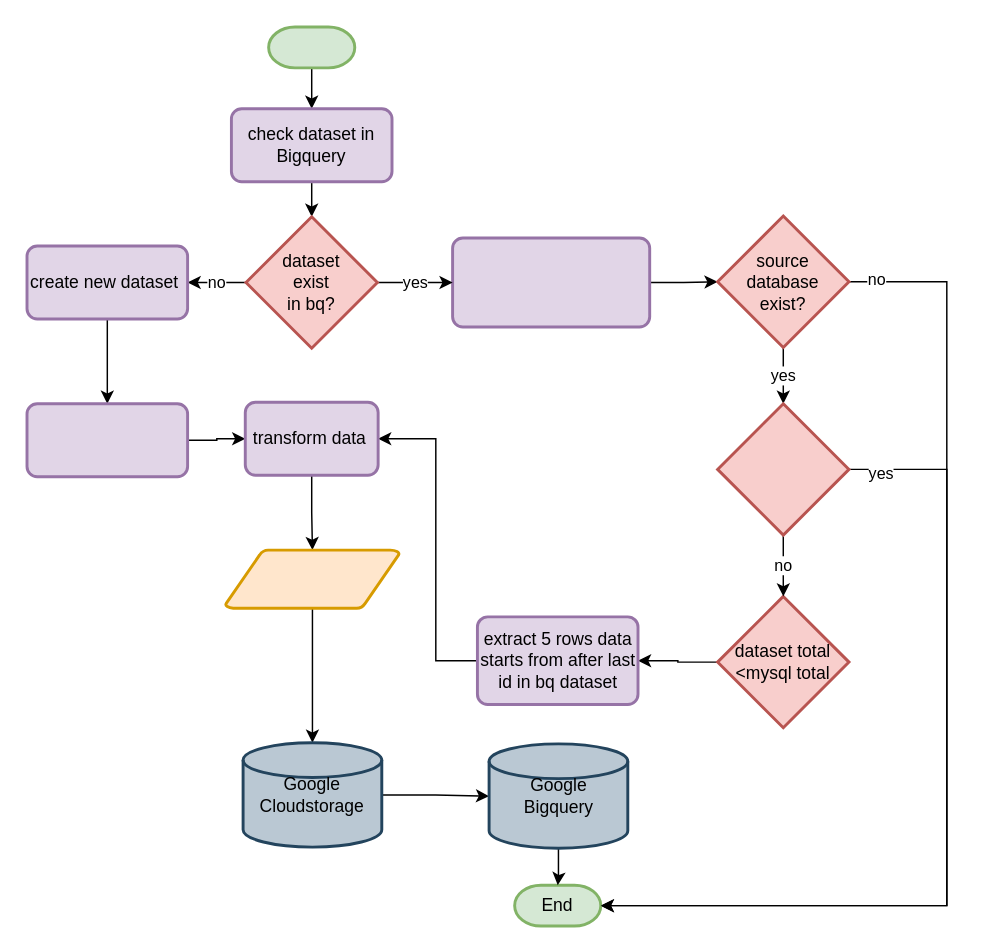
Some shapes in this 984 by 952 pixel diagram are drawn without their labels. The box of each missing label's shape, as (x1, y1, x2, y2) in pixels:
data.parquet: (223, 548, 400, 609)
dataset total==mysql total: (715, 402, 850, 536)
extract 5 rows of data from mysql: (25, 402, 188, 477)
get total number of rows in bq and compare with source mysql: (450, 236, 650, 328)
Start: (266, 25, 356, 69)
